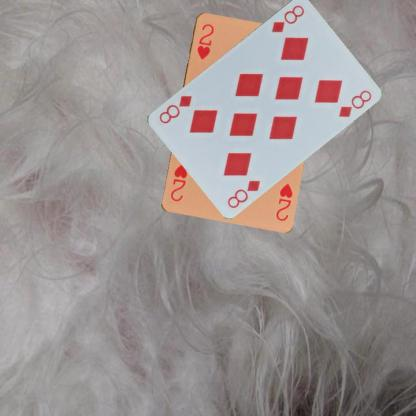2h: (272, 180, 294, 222), (194, 21, 215, 61)
8d: (268, 2, 306, 34), (224, 177, 262, 209)
